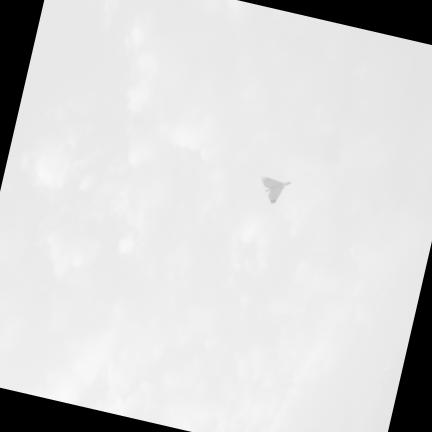Shahed: (262, 176, 290, 202)
